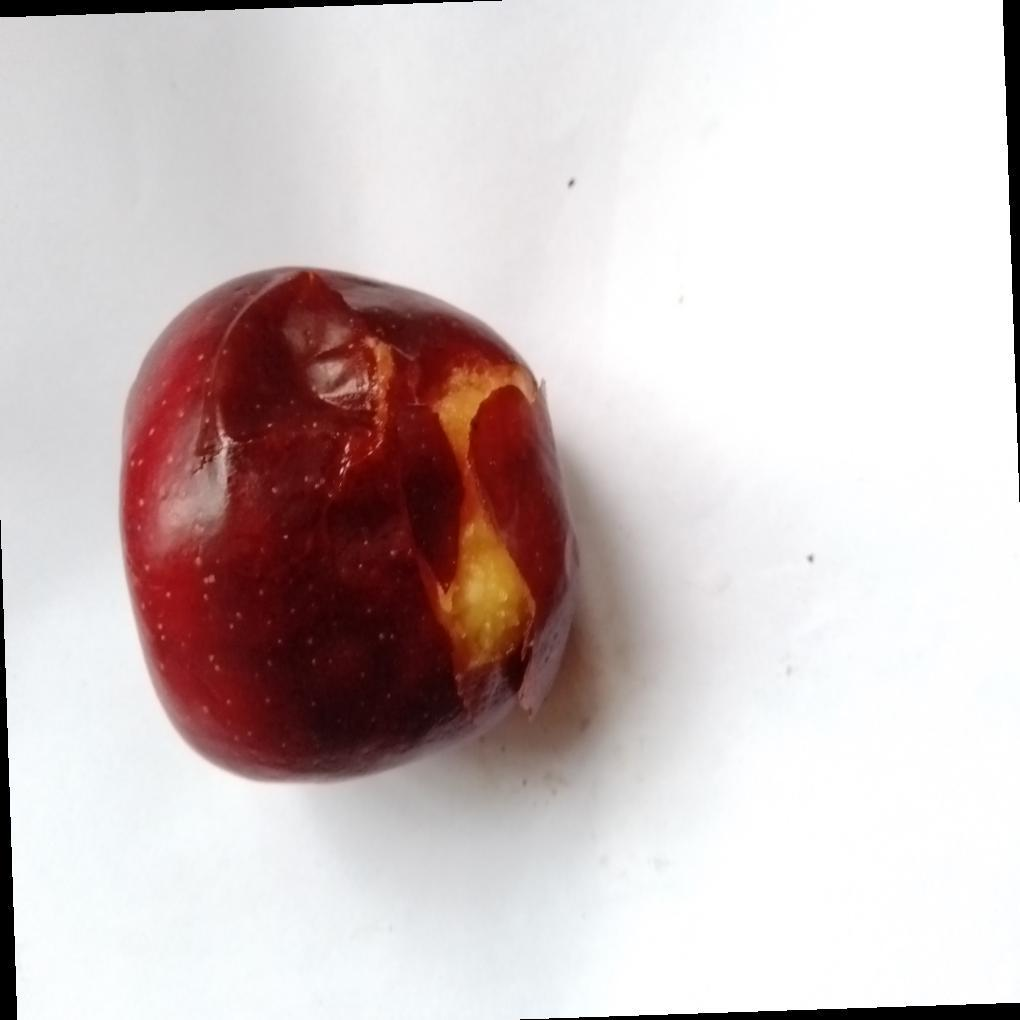FreshOrange: (118, 267, 582, 790)
